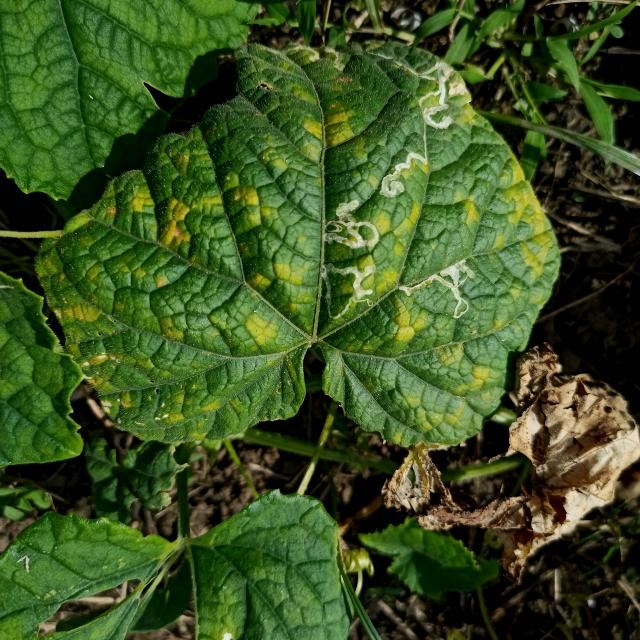disease_cucumber: (70, 45, 550, 435)
